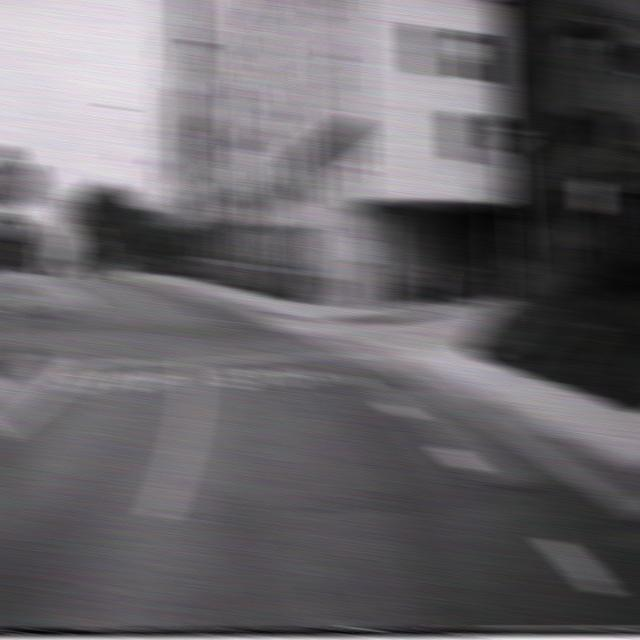stop: (473, 148, 514, 205)
